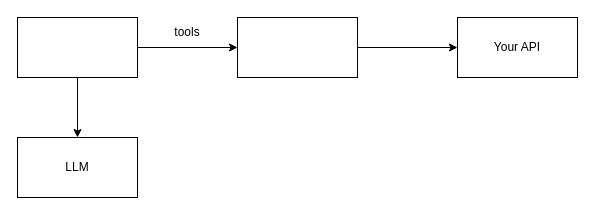
The diagram is 595 pixels wide and 215 high, and some of its shapes have lost their labels. Each missing label, with the centre of its shape:
"Agent" belongs at [77,47].
"MCP Gateway" belongs at [297,47].
